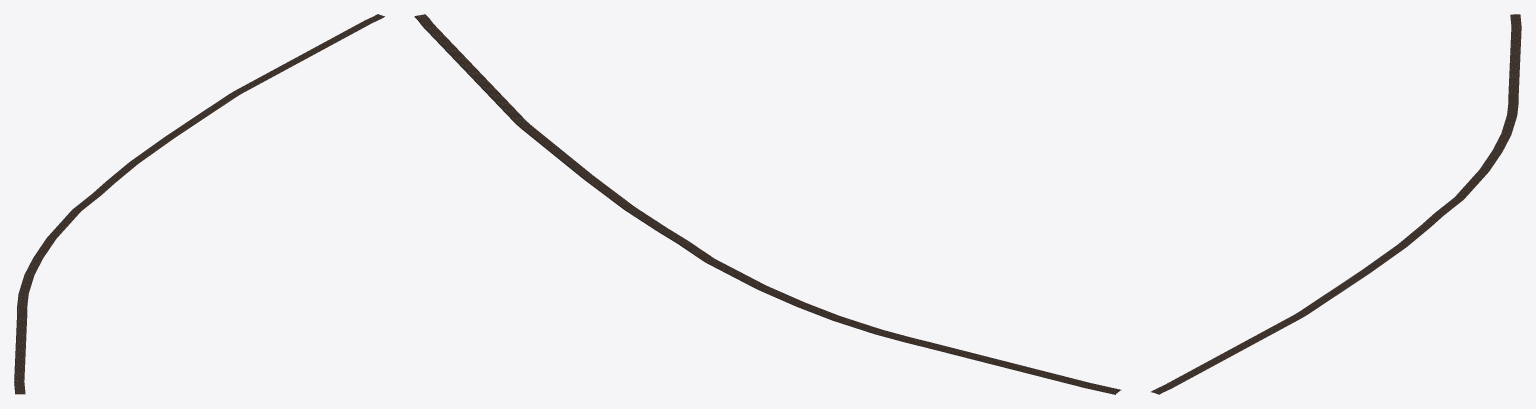
The model's file is kobe_0010.glb.
The picture shows the model from 3 angles, left to right: view 1: azimuth 90°, elevation 25°; view 2: azimuth 150°, elevation 25°; view 3: azimuth 270°, elevation 25°; orthographic projection. The views are drawn at different scales.
Parts seen in each view (by area): view 1: ballast_top, oxidised_rail_profiles; view 2: ballast_top, oxidised_rail_profiles, ballast_left; view 3: ballast_top, oxidised_rail_profiles, ballast_left.
Part boxes in pixels (x1,y1,x2,y2): ballast_top: (14,14,384,394); oxidised_rail_profiles: (16,14,382,393); ballast_top: (415,14,1120,393); oxidised_rail_profiles: (417,14,1119,393); ballast_left: (414,16,1115,394); ballast_top: (1151,14,1521,394); oxidised_rail_profiles: (1153,14,1519,392); ballast_left: (1158,14,1521,394).
Size of the model in its own units: 681 by 0.819 by 281.
4 materials, 3 textured.
